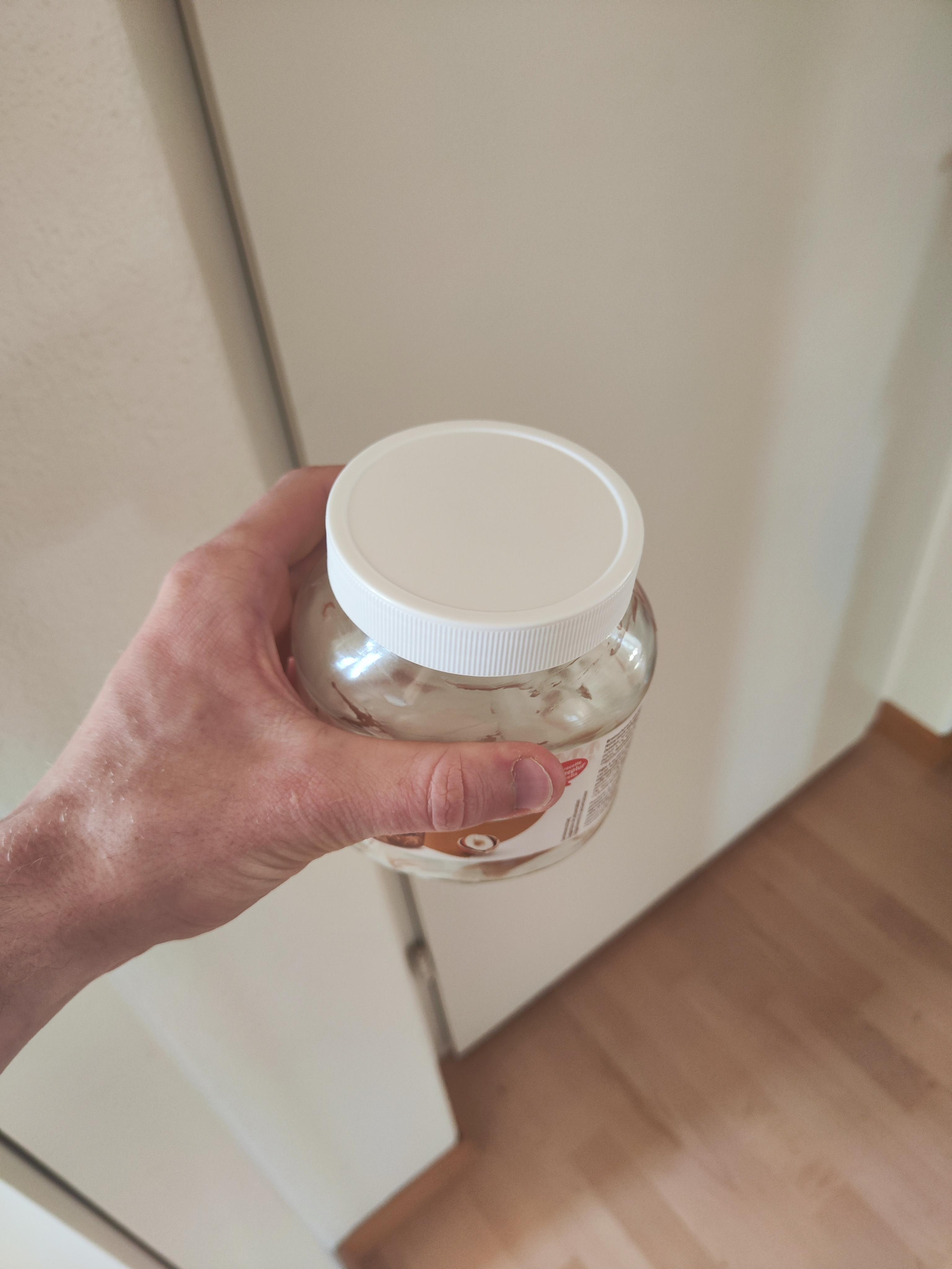Glass: (276, 571, 676, 889)
Plastic: (308, 415, 645, 677)
